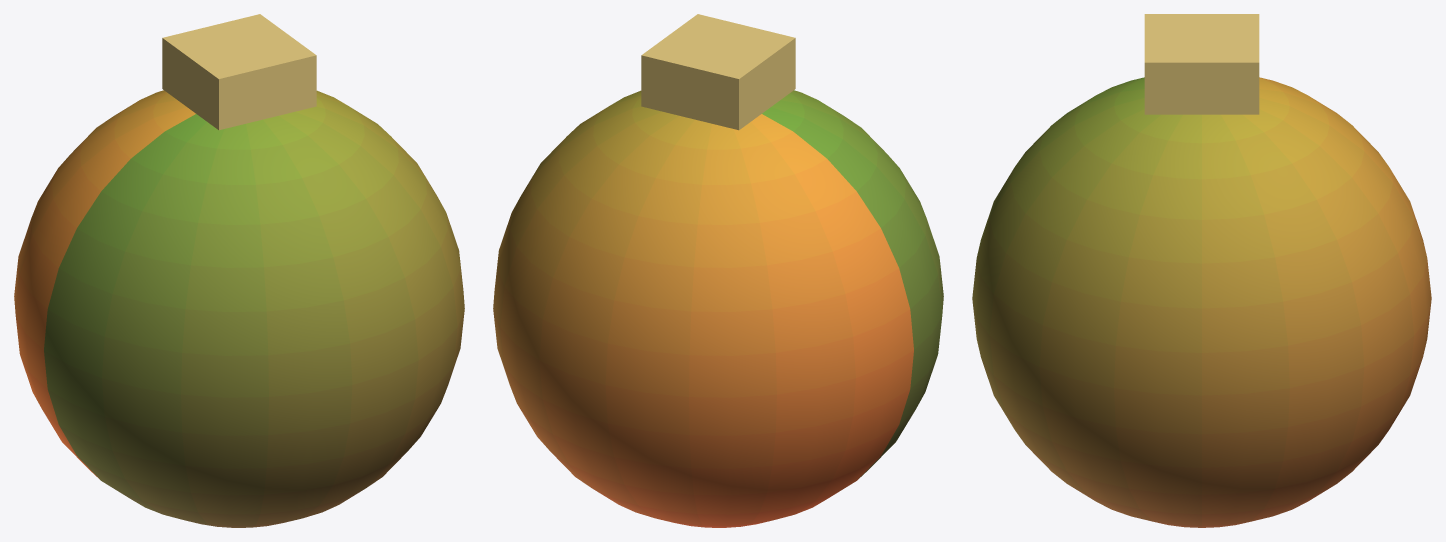
The model's file is test-orb.glb.
3 renders of one model, left to right at view 1: azimuth 30°, elevation 25°; view 2: azimuth 150°, elevation 25°; view 3: azimuth 270°, elevation 25°, orthographic.
Visible parts, largest first — view 1: body, accent; view 2: body, accent; view 3: body, accent.
Boxes of the visible parts, bbox=[...] form: body: bbox=[14, 90, 464, 527]; accent: bbox=[162, 14, 316, 130]; body: bbox=[493, 90, 943, 527]; accent: bbox=[641, 14, 795, 130]; body: bbox=[972, 77, 1431, 527]; accent: bbox=[1144, 14, 1259, 114].
Bounding box in the file's own units: 0.8 × 0.9 × 0.8.
Materials: 2 (1 with a texture image).
